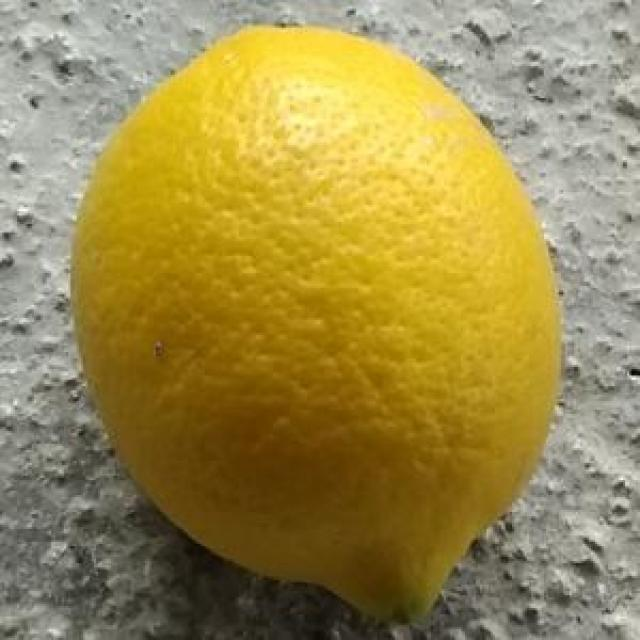lemon: (74, 21, 568, 623)
